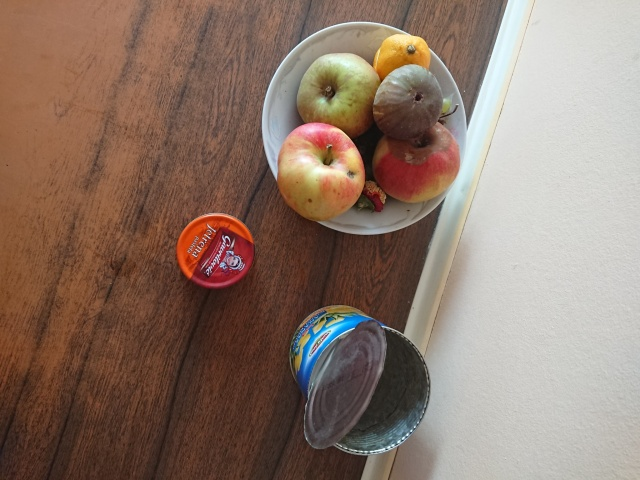Gavrilovic Pork Liver Pate 100g: (173, 210, 258, 292)
